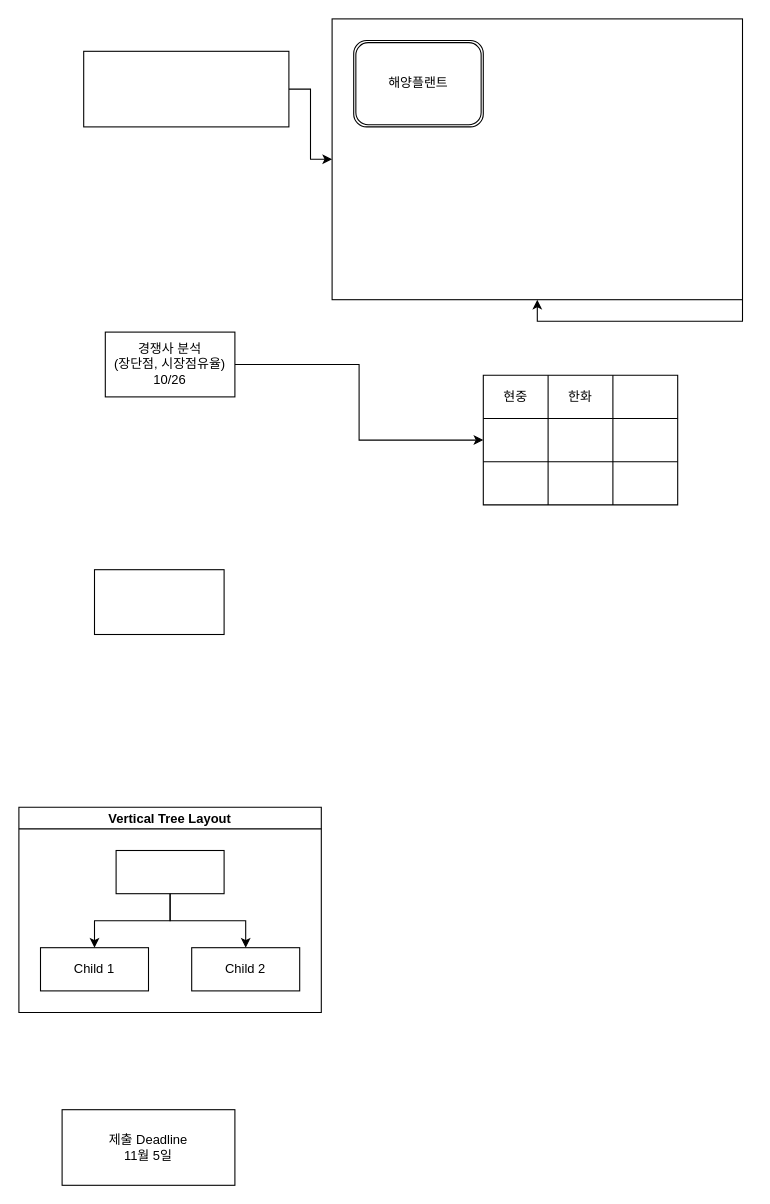
This 770x1204 diagram has some shape labels left out. Each missing label, with the centre of its shape:
"Root" goes at [169,871].
"자사 분석 (특장점, 가능성) 10/27" goes at [158,601].
"플랜트 O&M 제품 및 솔루션 현황 (제품들은 주로 어떤 일을 하는지) (서비스의 메커니즘) 10/25" goes at [186,88].
